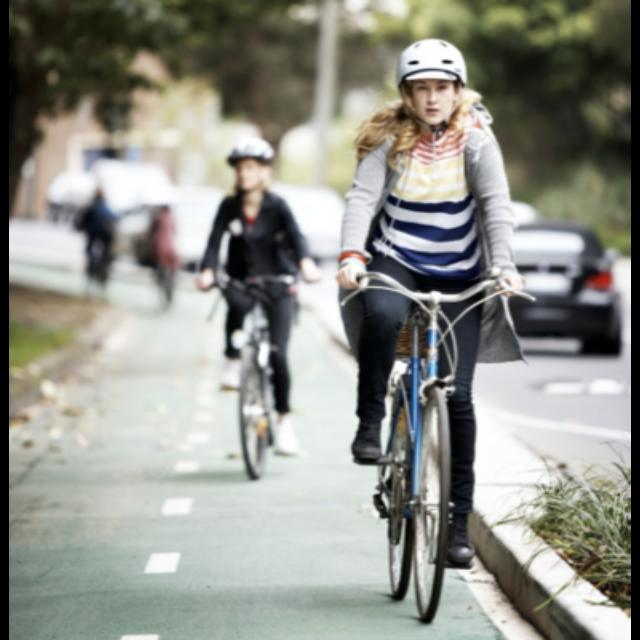With Helmet: (390, 35, 476, 131)
